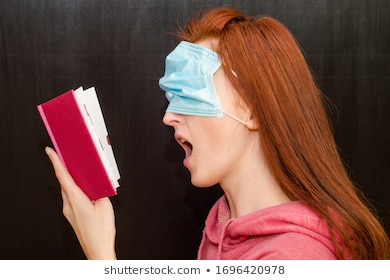mask_weared_incorrect: (158, 62, 228, 189)
